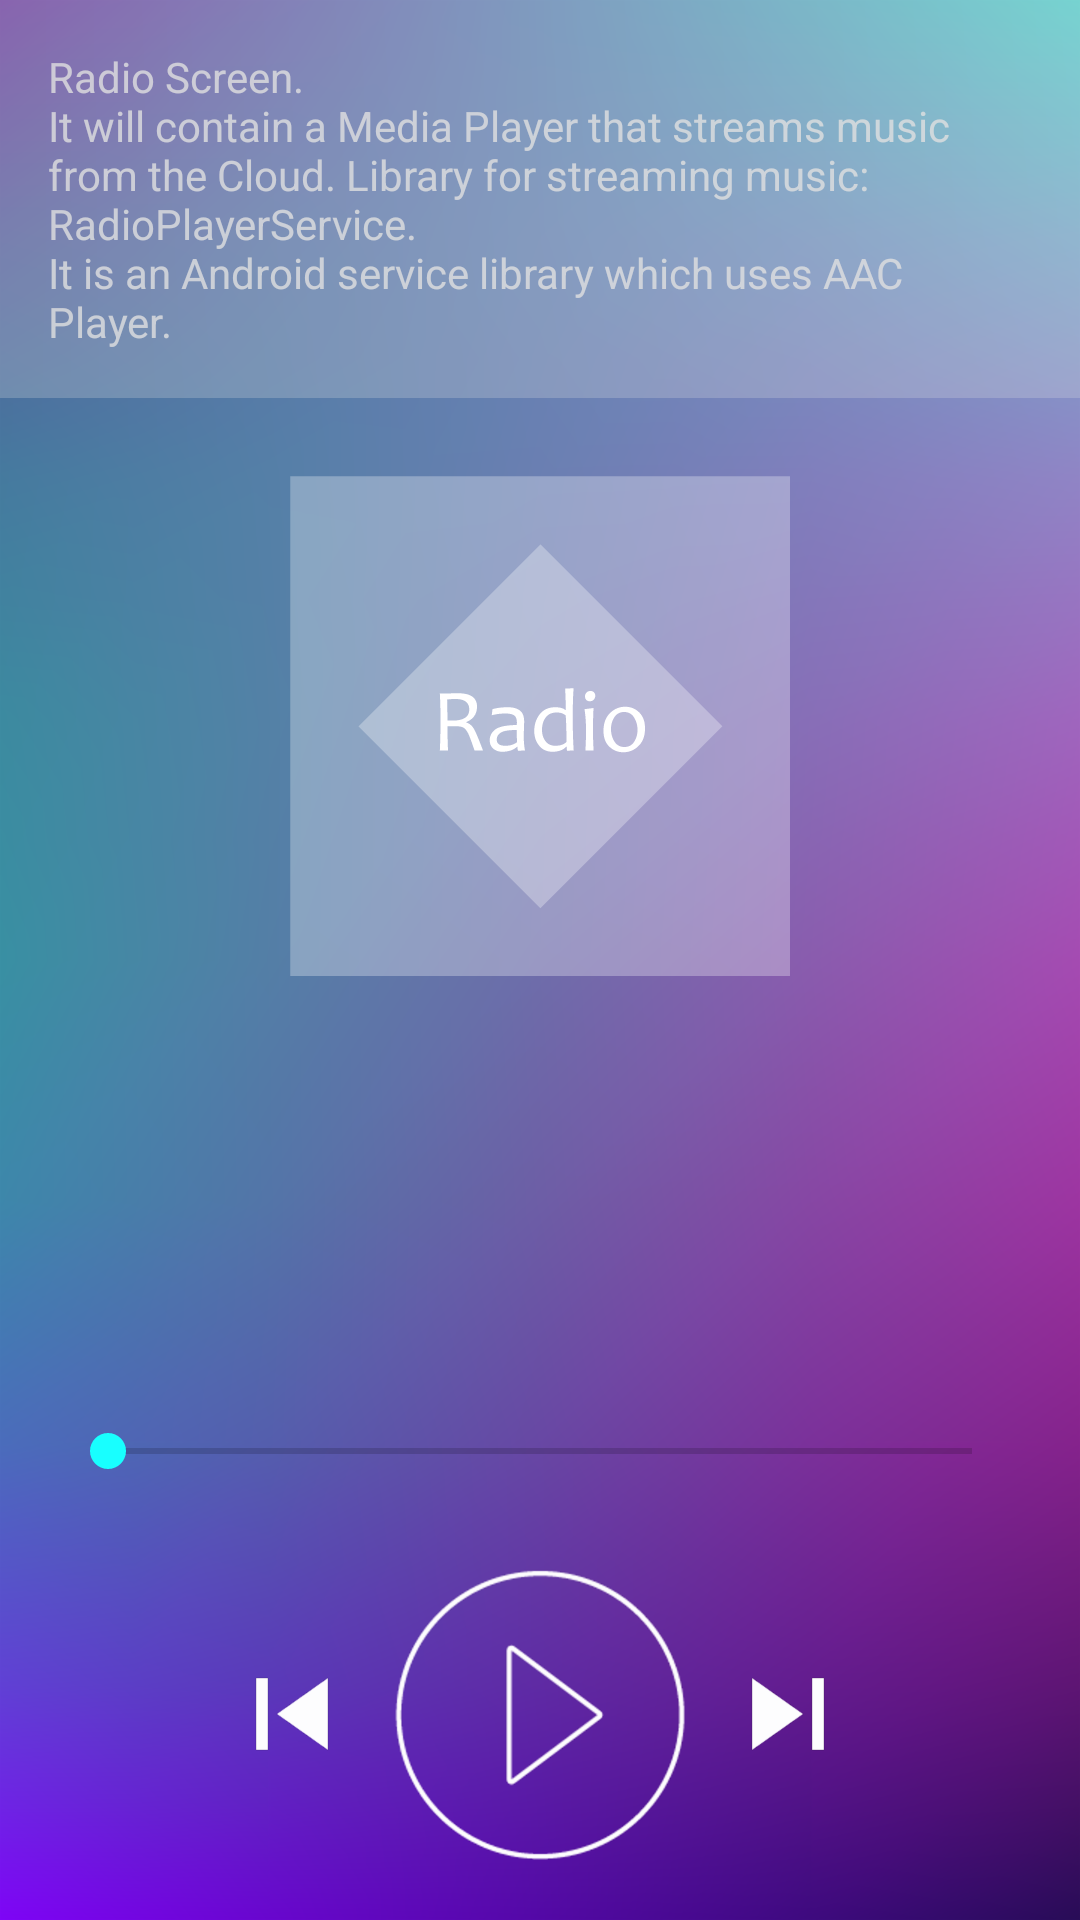

Screen size 1080x1920. Icon name, then its center in pixels as point (x, y):
play: point (540, 1714)
skip next: point (788, 1714)
skip previous: point (292, 1714)
